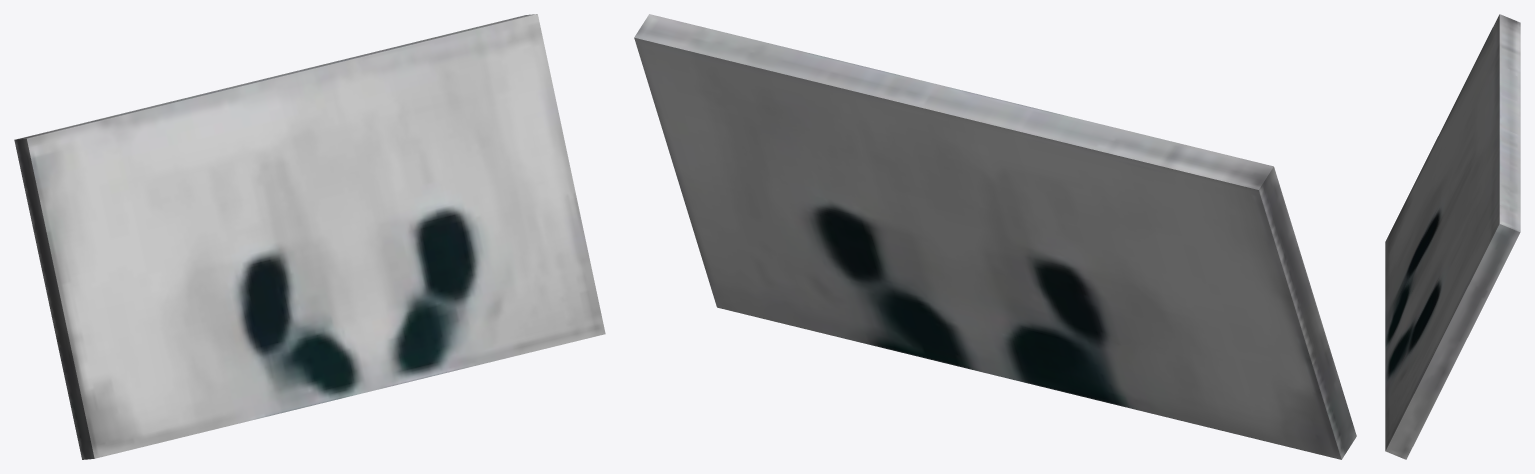
File: body__display.glb
3 views of the same model, side by side, from view 1: azimuth 30°, elevation 25°; view 2: azimuth 150°, elevation 25°; view 3: azimuth 270°, elevation 25° (orthographic). The views are drawn at different scales.
Visible parts, largest first — view 1: geometry_0; view 2: geometry_0; view 3: geometry_0.
Part boxes in pixels (bbox=[...]): geometry_0: bbox=[14, 14, 605, 459]; geometry_0: bbox=[634, 14, 1356, 459]; geometry_0: bbox=[1385, 14, 1520, 459].
Bounding box in the file's own units: 0.054 × 0.0283 × 0.0147.
Materials: 1 (1 with a texture image).
